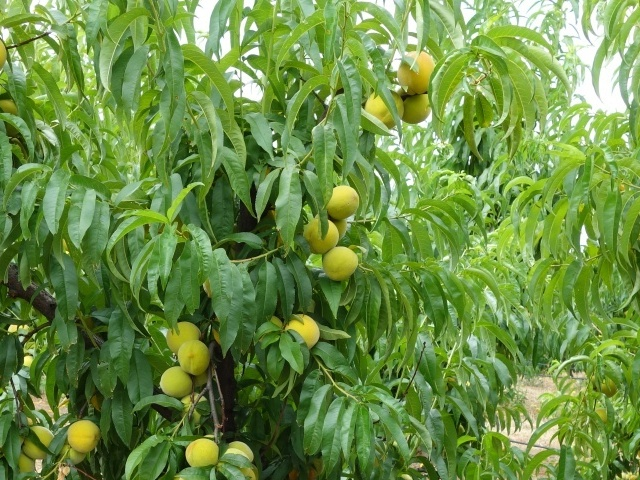peach: (394, 43, 441, 100), (360, 83, 410, 132), (322, 239, 365, 285), (395, 83, 438, 127), (280, 310, 322, 354), (300, 215, 340, 258), (164, 315, 205, 356), (63, 418, 104, 456), (19, 422, 58, 461), (184, 434, 221, 474), (156, 363, 195, 400), (176, 388, 215, 425), (177, 337, 213, 377), (324, 184, 361, 221), (57, 437, 91, 471), (11, 449, 42, 476)
